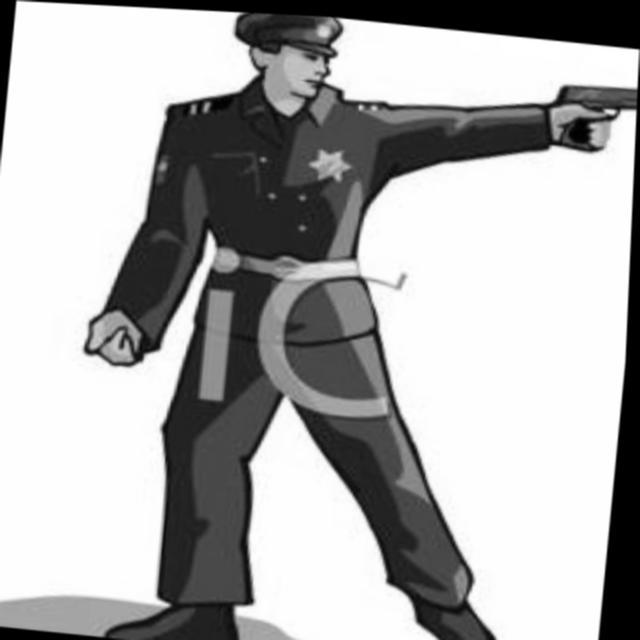weapon: (548, 70, 638, 158)
